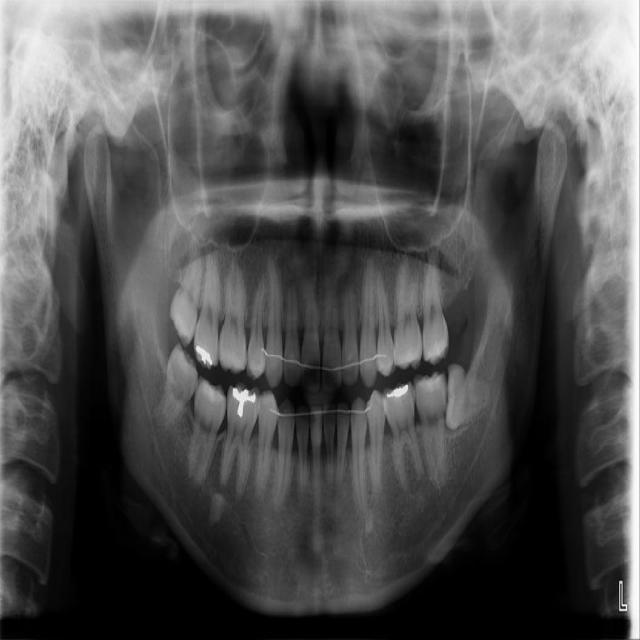Filling: (231, 384, 257, 419), (198, 379, 224, 403), (194, 344, 214, 367), (385, 384, 410, 400)
Periapical lesion: (425, 245, 444, 272), (209, 491, 224, 524), (232, 481, 248, 511), (410, 479, 421, 494)
impacted tooth: (153, 344, 198, 440), (447, 363, 495, 429)
